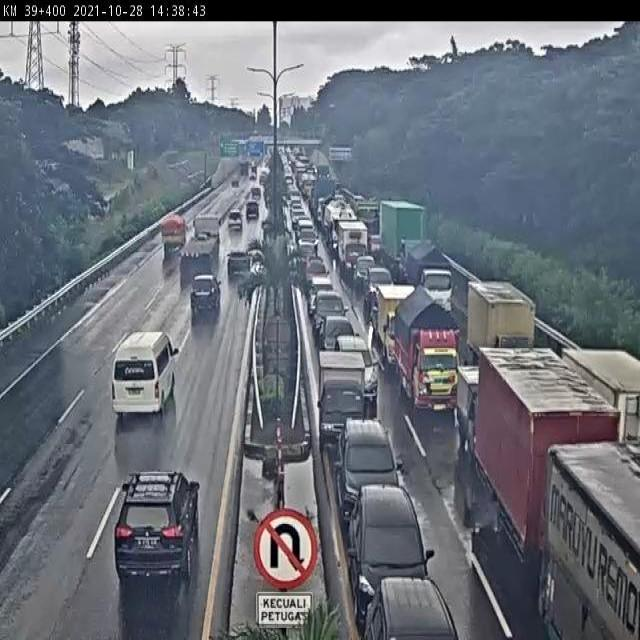big truck: (479, 345, 626, 595), (178, 215, 221, 268)
car: (349, 486, 436, 618), (111, 469, 202, 591), (335, 418, 399, 530), (111, 328, 180, 423), (363, 577, 460, 640), (335, 336, 380, 403), (319, 315, 360, 369), (312, 290, 350, 342), (189, 274, 221, 314), (367, 265, 395, 308), (309, 276, 334, 316), (226, 248, 251, 279), (355, 255, 376, 288), (228, 210, 243, 230)
small truck: (393, 287, 462, 416), (466, 277, 536, 387), (458, 365, 521, 468), (317, 348, 369, 449), (377, 283, 420, 369), (380, 201, 426, 280), (409, 238, 451, 318), (339, 220, 369, 276), (161, 216, 185, 256)
